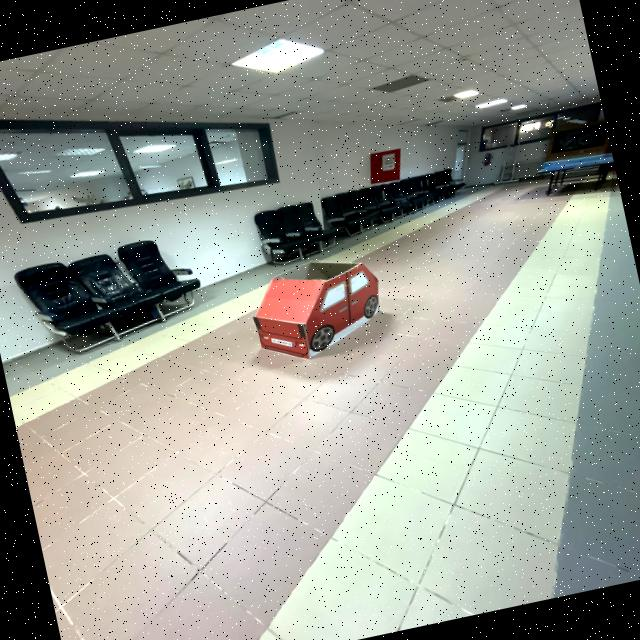red_car: (238, 243, 407, 375)
